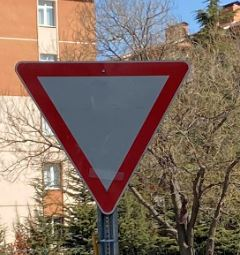Yol Ver: (16, 61, 189, 215)
